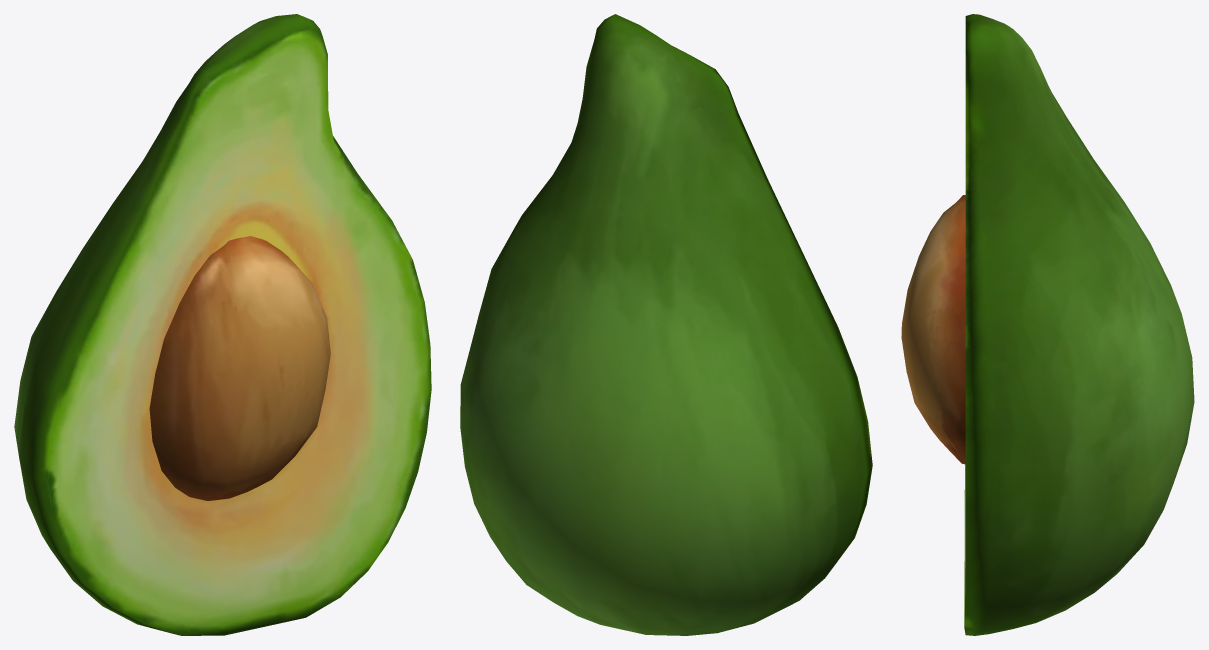
Rendered from Avocado.glb.
3 views of the same model, side by side, from view 1: azimuth 30°, elevation 25°; view 2: azimuth 150°, elevation 25°; view 3: azimuth 270°, elevation 25° (orthographic). The views are drawn at different scales.
Visible parts, largest first — view 1: Avocado; view 2: Avocado; view 3: Avocado.
Part boxes in pixels (<box>): Avocado: <box>14,14,431,635</box>; Avocado: <box>460,14,872,635</box>; Avocado: <box>901,14,1194,635</box>.
Bounding box in the file's own units: 0.0426 × 0.0629 × 0.0276.
1 material, 1 textured.
